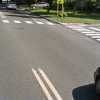crosswalk: (69, 27, 100, 41), (0, 19, 54, 25)
